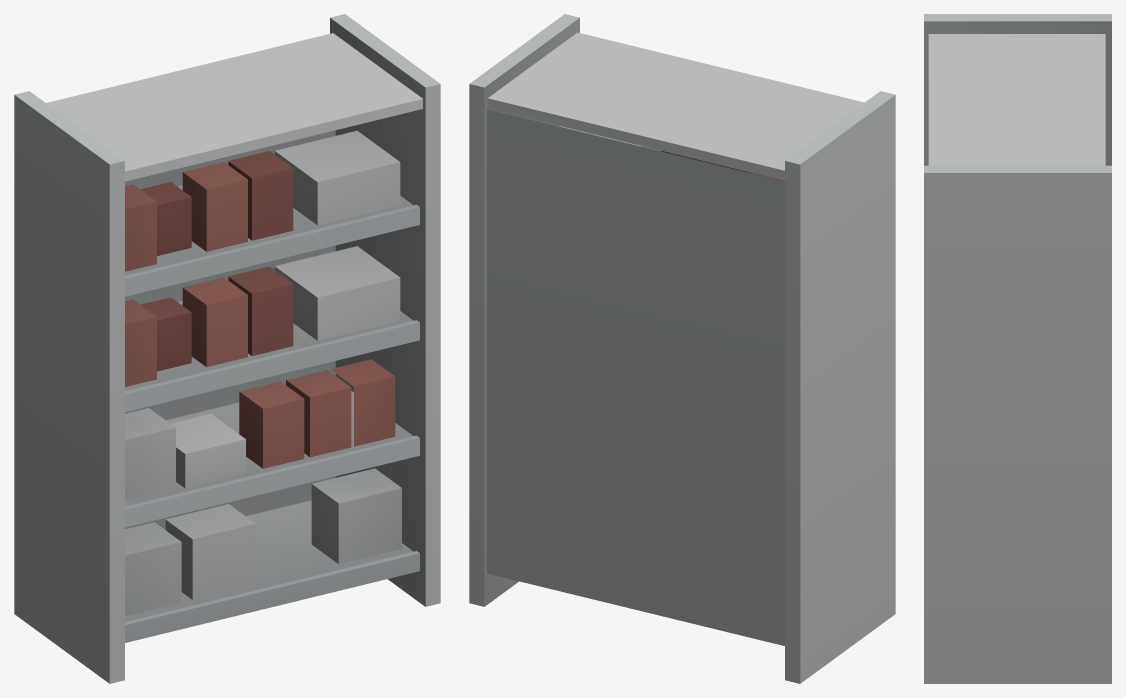
Rendered from shelf.lod1.glb.
The picture shows the model from 3 angles, left to right: view 1: azimuth 30°, elevation 25°; view 2: azimuth 150°, elevation 25°; view 3: azimuth 270°, elevation 25°; orthographic projection.
Size of the model in its own units: 1.2 by 1.8 by 0.6.
